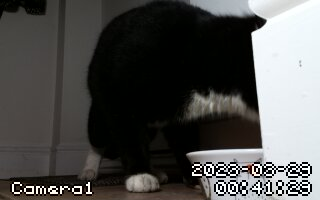bad: (77, 2, 273, 193)
